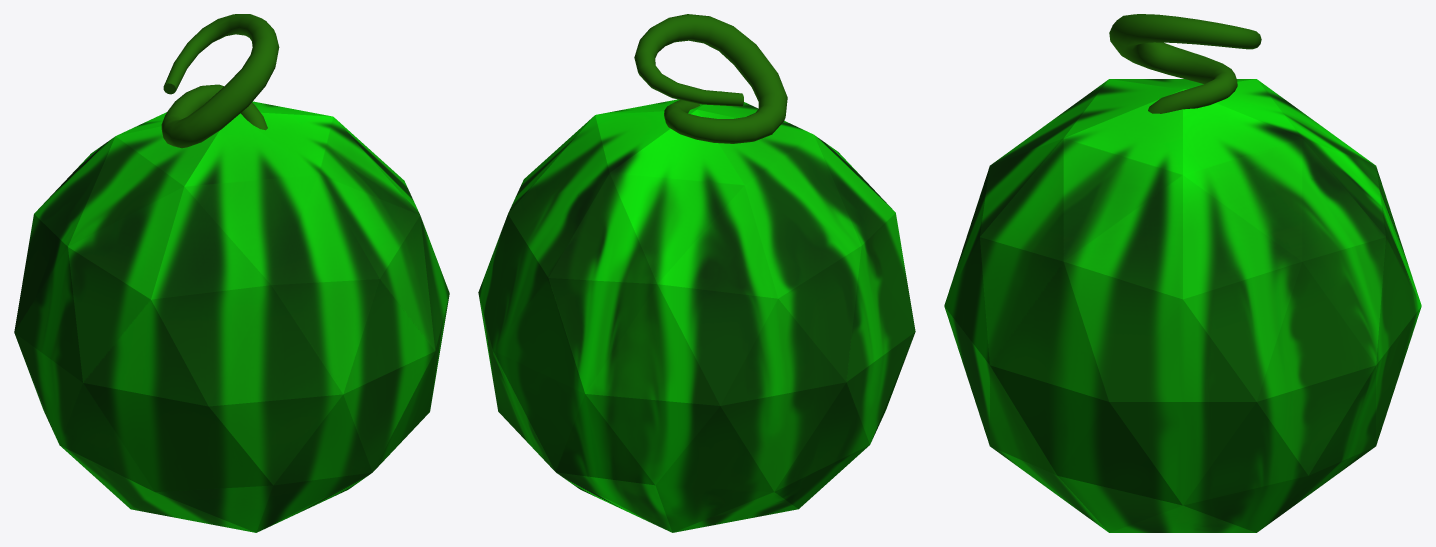
Rendered from WaterMelon_2.fbx.
3 renders of one model, left to right at view 1: azimuth 30°, elevation 25°; view 2: azimuth 150°, elevation 25°; view 3: azimuth 270°, elevation 25°, orthographic. The views are drawn at different scales.
Visible parts, largest first — view 1: ICO球, ベジエカーブ; view 2: ICO球, ベジエカーブ; view 3: ICO球, ベジエカーブ.
Part boxes in pixels (x1=…): ICO球: x1=14, y1=101, x2=449, y2=532; ベジエカーブ: x1=161, y1=14, x2=279, y2=148; ICO球: x1=478, y1=91, x2=915, y2=532; ベジエカーブ: x1=634, y1=14, x2=787, y2=143; ICO球: x1=944, y1=79, x2=1421, y2=532; ベジエカーブ: x1=1109, y1=14, x2=1261, y2=113.
Bounding box in the file's own units: 190 × 240 × 200.
2 materials, 1 textured.
